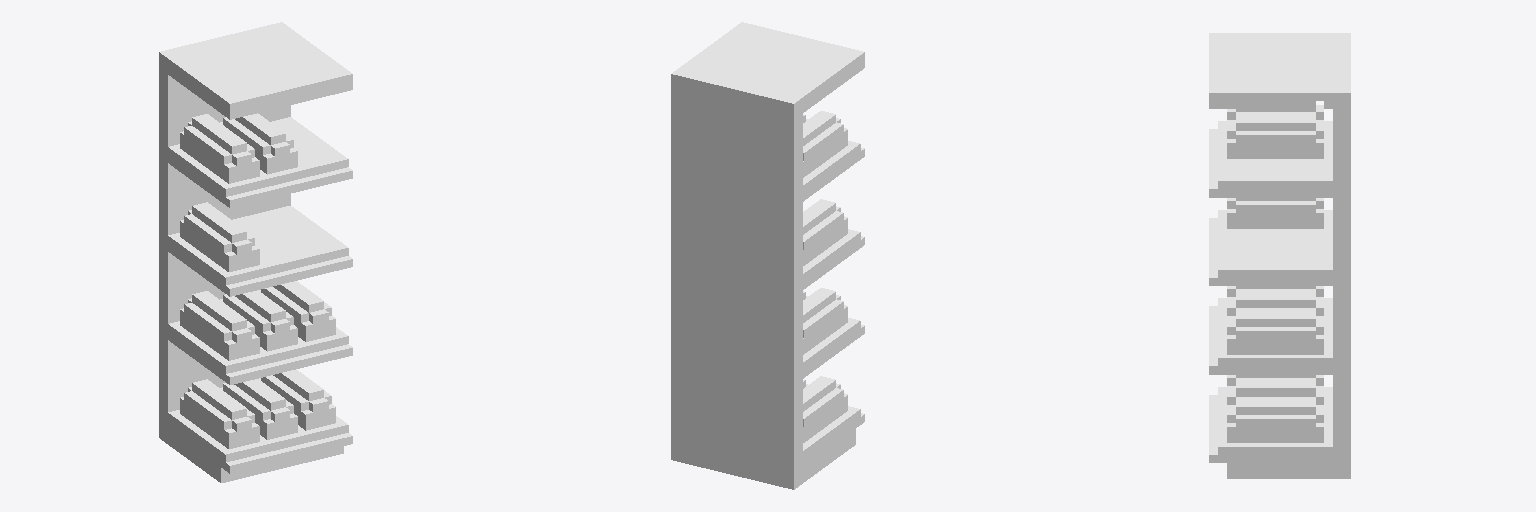
File: fullBreadShelf1.obj
The picture shows the model from 3 angles: view 1: azimuth 30°, elevation 25°; view 2: azimuth 150°, elevation 25°; view 3: azimuth 270°, elevation 25°; orthographic projection.
Parts seen in each view (by area): view 1: object 1; view 2: object 1; view 3: object 1.
Part boxes in pixels (x1,y1,x2,y2): object 1: (159,22,352,482); object 1: (671,22,864,489); object 1: (1209,33,1350,478).
Bounding box in the file's own units: 1.6 × 4.8 × 1.6.